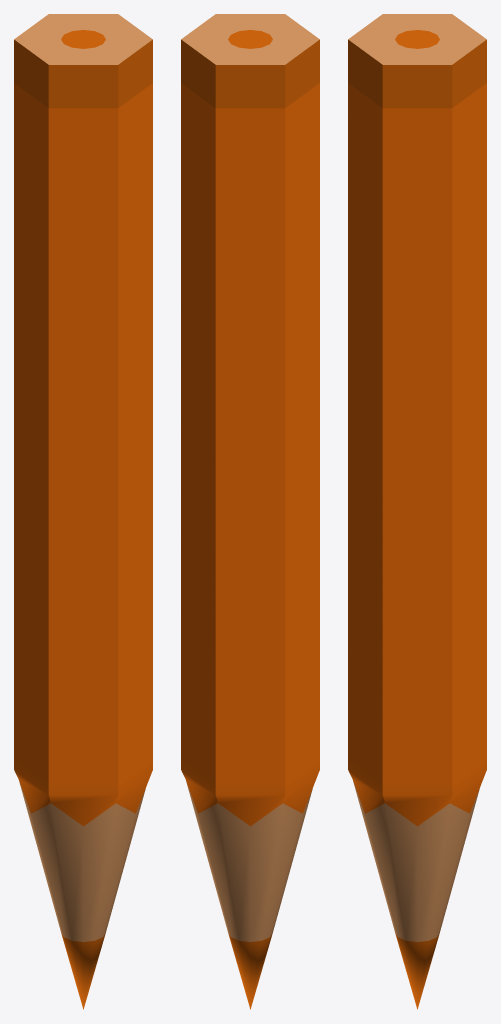
File: Orange Pencile.fbx
3 views of the same model, side by side, from view 1: azimuth 90°, elevation 25°; view 2: azimuth 150°, elevation 25°; view 3: azimuth 330°, elevation 25° (orthographic).
Visible parts, largest first — view 1: Cylinder.002; view 2: Cylinder.002; view 3: Cylinder.002.
Part boxes in pixels (<box>): Cylinder.002: <box>14,14,152,1009</box>; Cylinder.002: <box>181,14,319,1009</box>; Cylinder.002: <box>348,14,486,1009</box>.
Size of the model in its own units: 174 by 1542 by 200.
